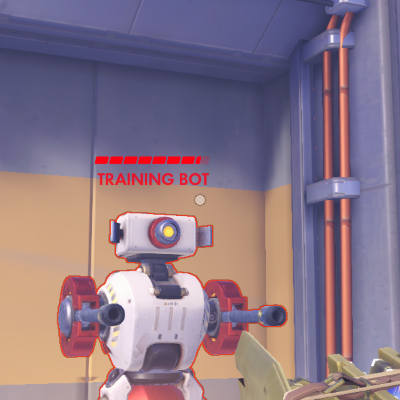hpbar: (94, 155, 210, 165)
